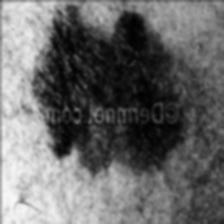Potentially Malignant Skin Tumors: (31, 5, 175, 101)
